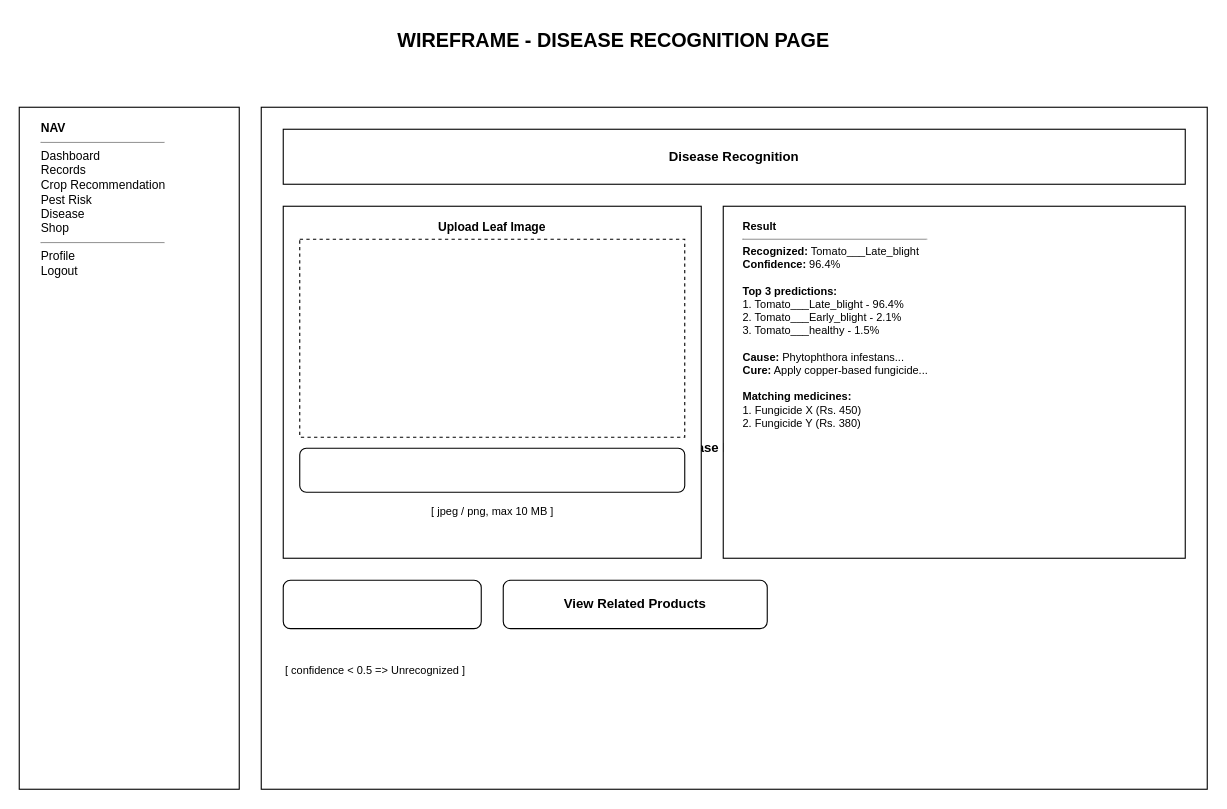
This 1227x809 diagram has some shape labels left out. Here are the shapes that lost their labels. From the top down, the centre of each, then its label:
At point 492,337: "[ leaf image preview / drag & drop ]".
At point 492,469: "Choose Image".
At point 381,604: "Save Record".
